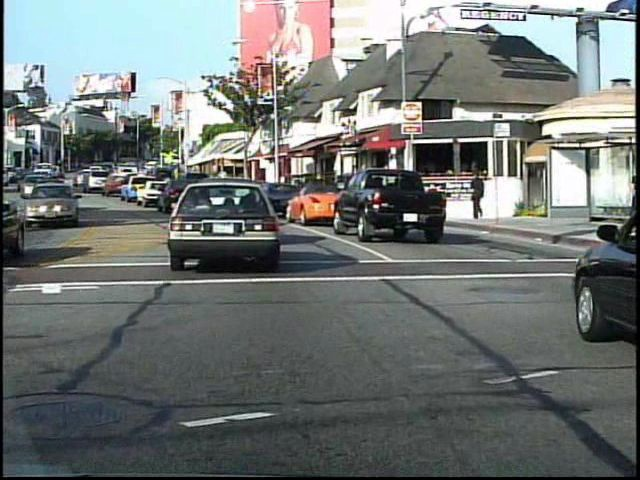person: (467, 172, 486, 226)
